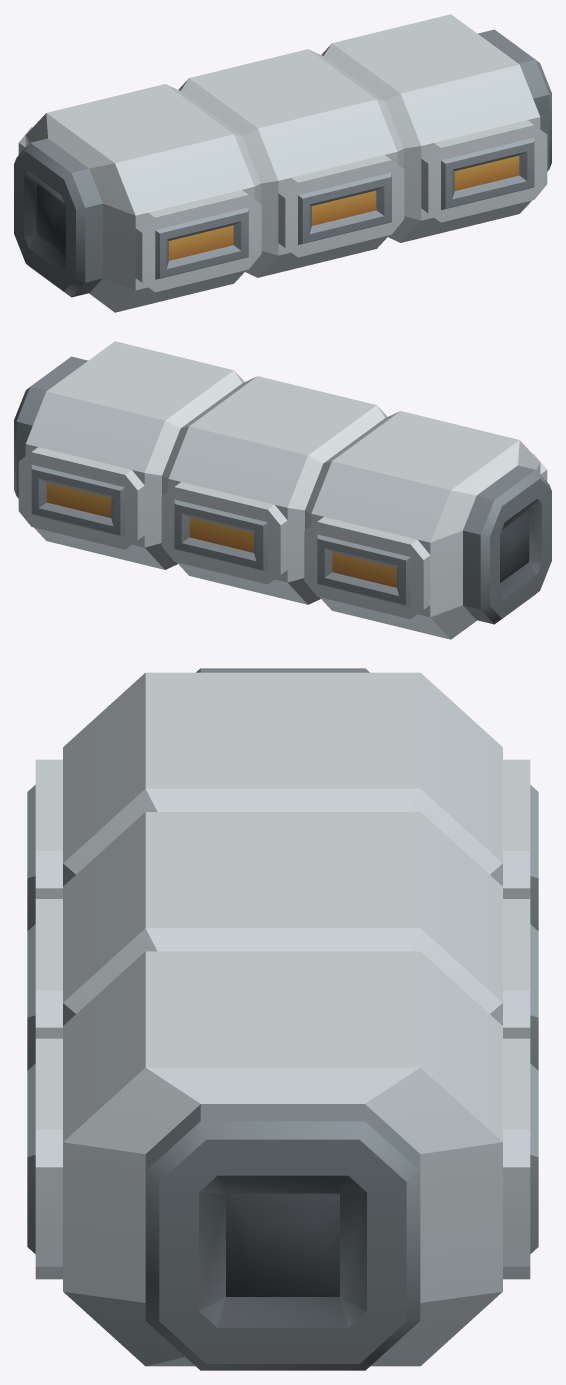
Rendered from tunnel-straight-a.glb.
The picture shows the model from 3 angles, top to bottom: view 1: azimuth 30°, elevation 25°; view 2: azimuth 150°, elevation 25°; view 3: azimuth 270°, elevation 25°; orthographic projection. The views are drawn at different scales.
Parts seen in each view (by area): view 1: tunnel_straight_A; view 2: tunnel_straight_A; view 3: tunnel_straight_A.
Boxes of the visible parts, left/top/right/bottom form: tunnel_straight_A: left=14, top=14, right=551, bottom=312; tunnel_straight_A: left=14, top=341, right=551, bottom=639; tunnel_straight_A: left=27, top=668, right=538, bottom=1370.
Bounding box in the file's own units: 2 × 0.5999 × 0.93.
1 material, 1 textured.
